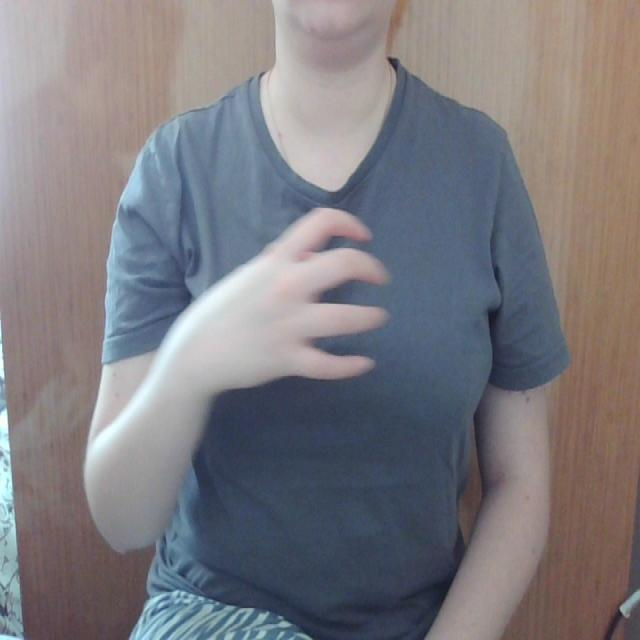Anne: (140, 195, 497, 403)
